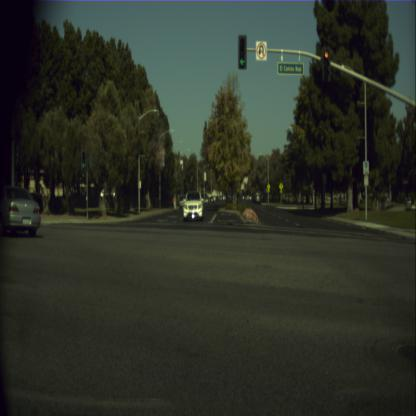GreenLeft: (238, 35, 246, 69), (81, 148, 86, 170)
Red: (322, 46, 330, 83)
